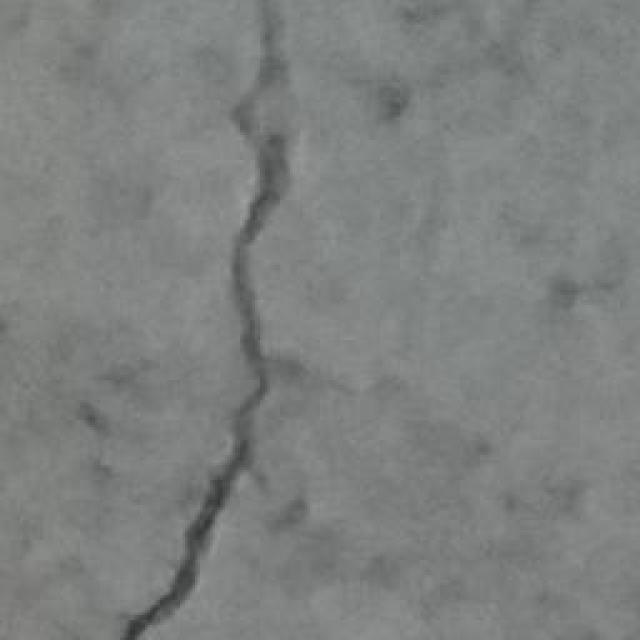Longitudinal: (95, 0, 325, 640)
